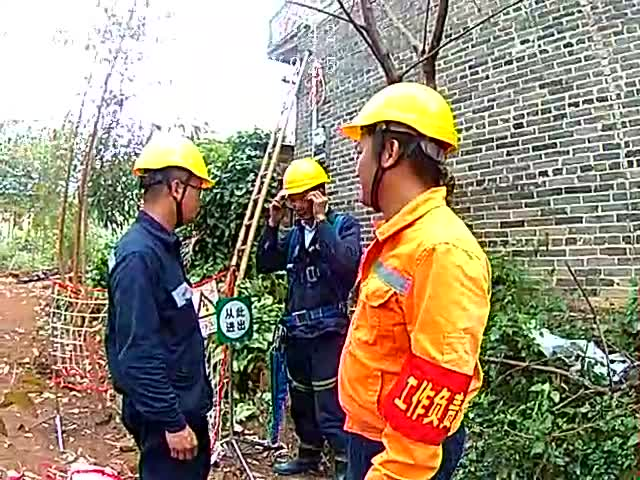badge: (378, 348, 478, 446)
downsuit: (274, 329, 346, 443), (121, 405, 215, 480)
halt: (353, 83, 461, 200), (132, 139, 216, 229), (281, 157, 328, 217)
hand: (162, 424, 199, 461), (268, 192, 289, 225), (304, 191, 326, 221)
inear: (359, 128, 417, 210), (158, 164, 192, 234)
intosign: (210, 295, 259, 343)
person: (312, 84, 495, 480), (101, 136, 225, 480), (262, 155, 361, 458)
shoe: (268, 440, 324, 479)
upsuit: (106, 223, 212, 408), (269, 220, 361, 326)
yupsuit: (341, 185, 495, 480)
